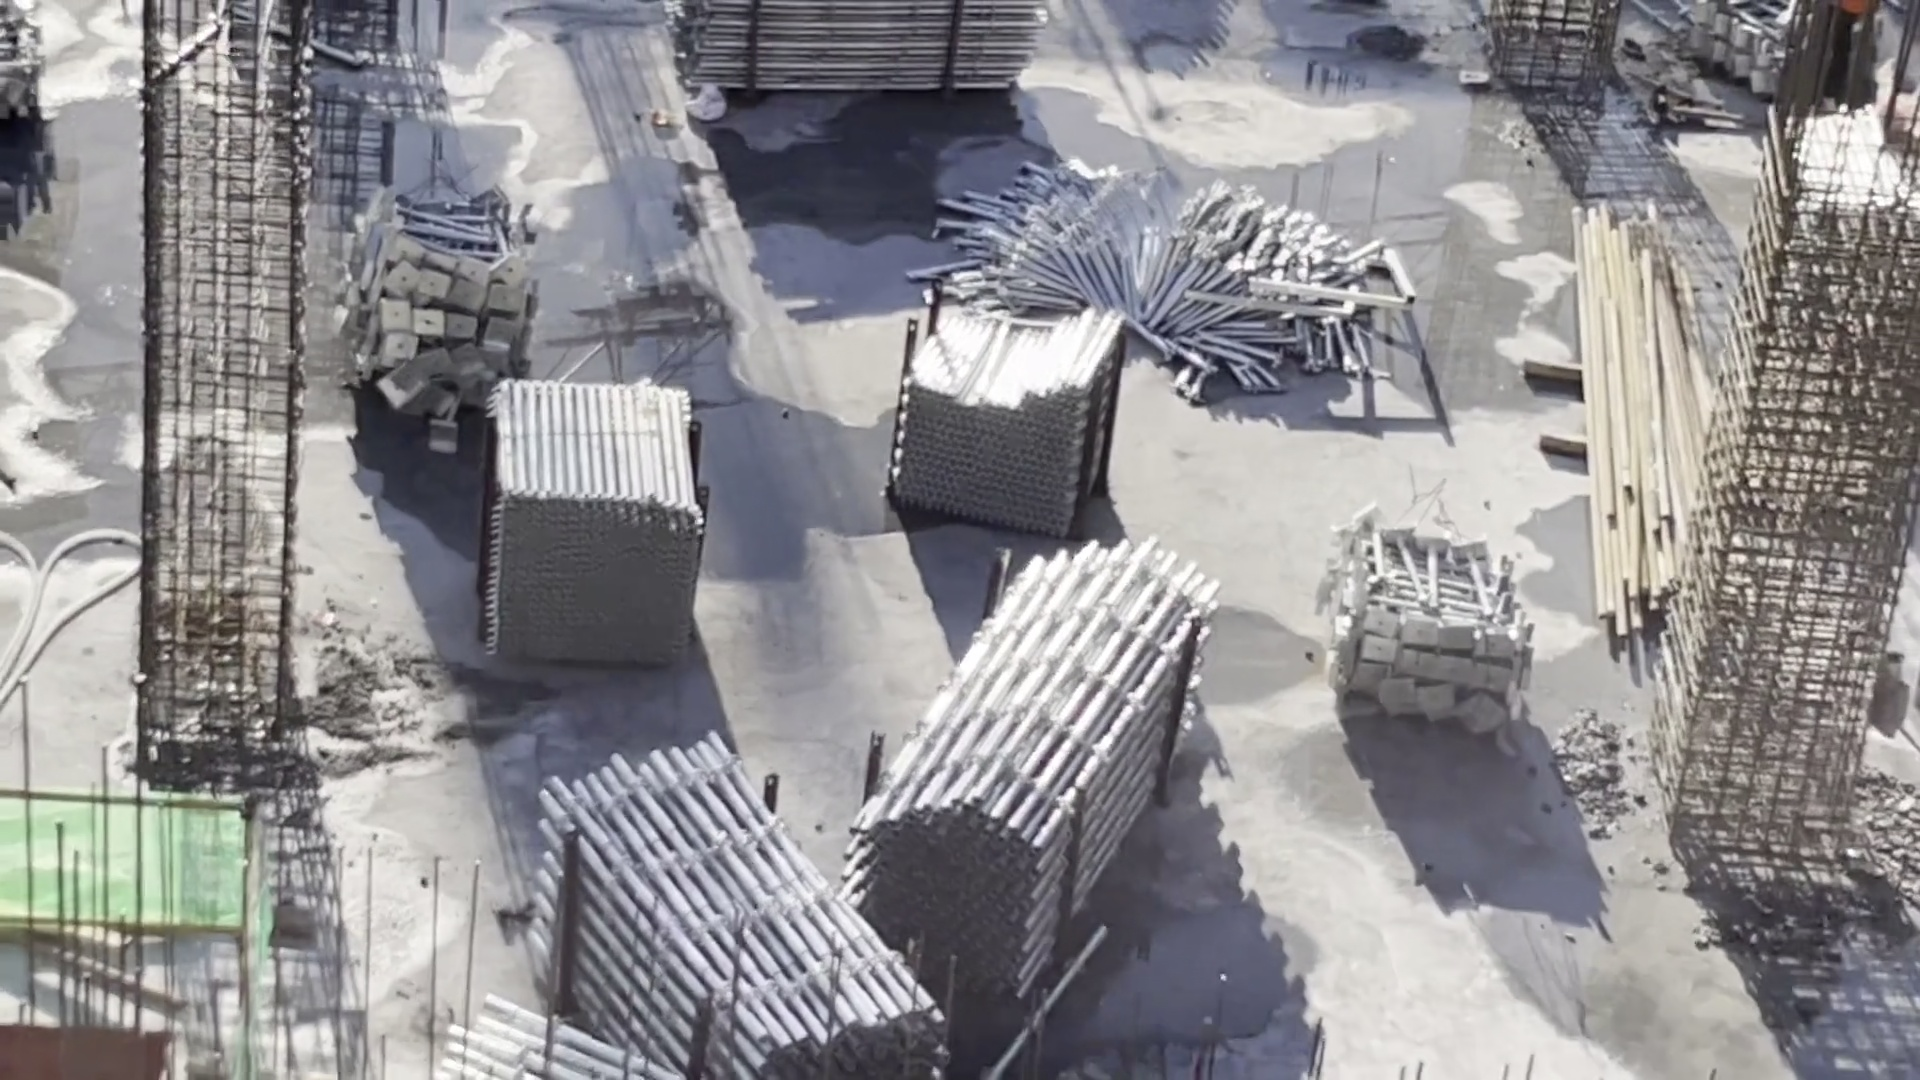scaffold: (866, 541, 1192, 978), (526, 740, 932, 1080), (953, 149, 1381, 378), (477, 364, 711, 665), (1323, 504, 1549, 746), (906, 290, 1118, 521), (349, 190, 541, 418), (675, 1, 1030, 113)
